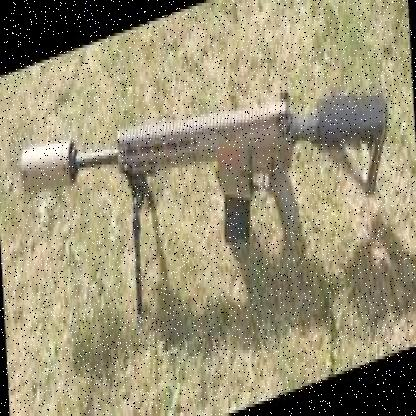rifle: (14, 0, 387, 350)
